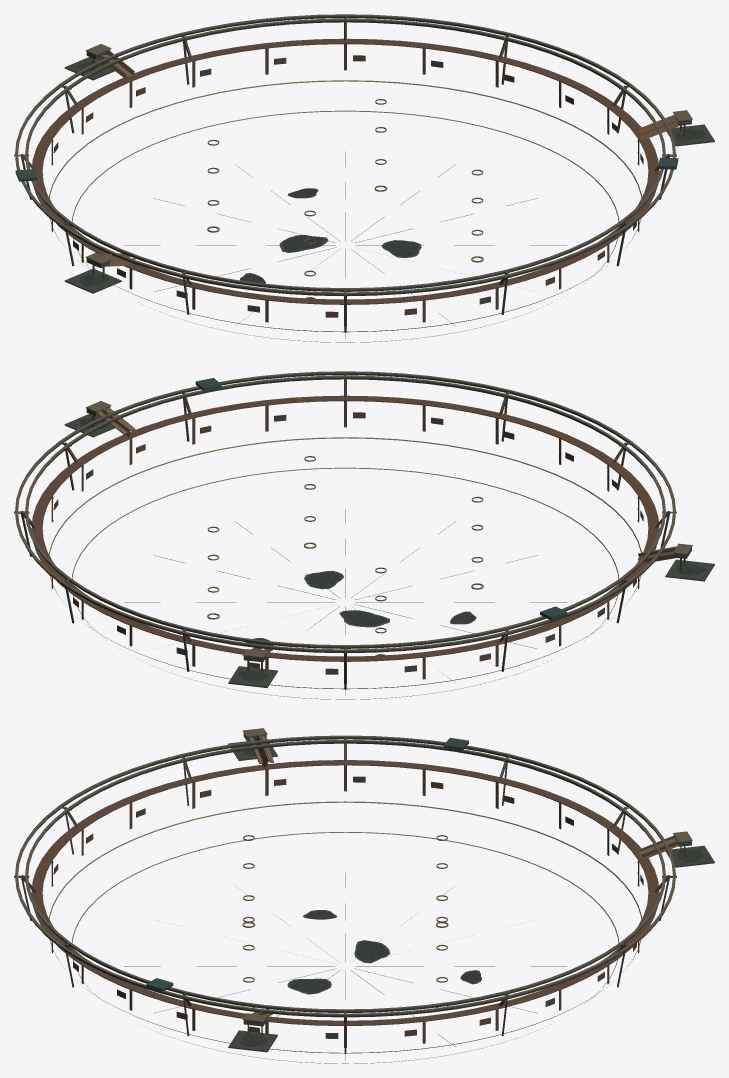
File: arena_bowl_foundry.glb
The picture shows the model from 3 angles, top to bottom: view 1: azimuth 30°, elevation 25°; view 2: azimuth 150°, elevation 25°; view 3: azimuth 270°, elevation 25°; orthographic projection.
Visible parts, largest first — view 1: CraneRails, RimRepairs, BankCopperCourses, PourSpouts, CooledSlagPools, CastFloorSeams, MastCollars; view 2: CraneRails, RimRepairs, BankCopperCourses, PourSpouts, CooledSlagPools, CastFloorSeams, MastCollars; view 3: CraneRails, RimRepairs, BankCopperCourses, PourSpouts, CooledSlagPools, CastFloorSeams, MastCollars.
Boxes of the visible parts, x1,y1,x2,y2 form: CraneRails: [14, 14, 678, 332]; RimRepairs: [32, 38, 659, 326]; BankCopperCourses: [49, 80, 641, 342]; PourSpouts: [64, 44, 714, 293]; CooledSlagPools: [75, 61, 707, 287]; CastFloorSeams: [124, 151, 566, 338]; MastCollars: [207, 99, 483, 298]; CraneRails: [14, 371, 676, 689]; RimRepairs: [31, 395, 659, 683]; BankCopperCourses: [49, 437, 641, 699]; PourSpouts: [64, 401, 714, 688]; CooledSlagPools: [78, 417, 708, 683]; CastFloorSeams: [124, 509, 566, 695]; MastCollars: [207, 456, 483, 655]; CraneRails: [14, 735, 676, 1053]; RimRepairs: [31, 760, 659, 1047]; BankCopperCourses: [49, 801, 641, 1063]; PourSpouts: [228, 728, 714, 1052]; CooledSlagPools: [238, 742, 705, 1047]; CastFloorSeams: [124, 873, 566, 1059]; MastCollars: [242, 835, 448, 1007].
Size of the model in its own units: 146 by 20.74 by 138.
